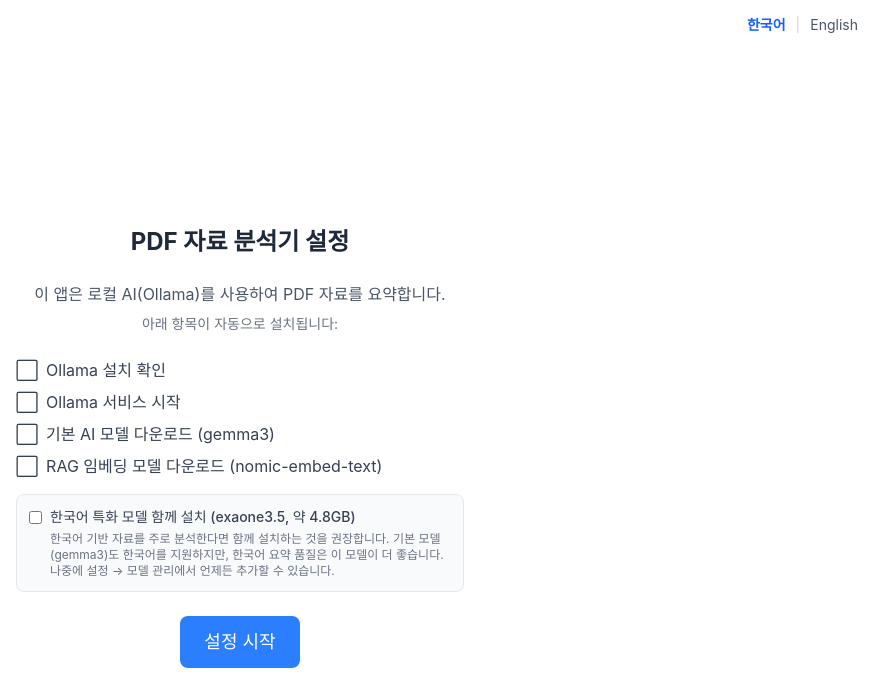
Test: OllamaSetupWizard 선택 설치 › R43: pull 실패 → 에러 화면 → 재시도로 복구
The width and height of the screenshot is (874, 685).
Click the button "설정 시작" at (240, 642), box [180,616,300,668]
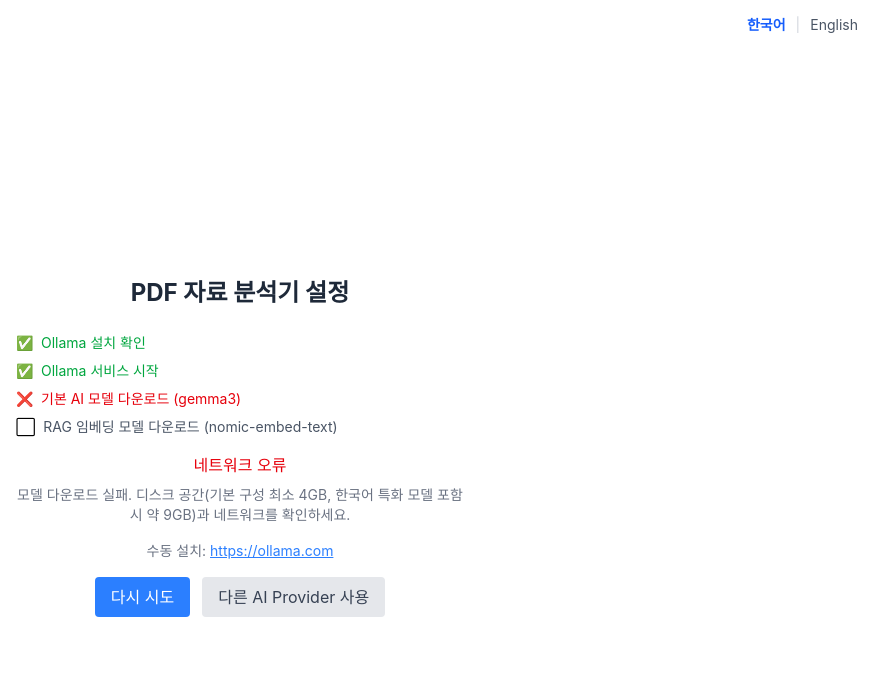
Result: the text "네트워크 오류" is shown at [194,455,286,475]
Result: the button "다시 시도" is shown
Result: the button "다른 AI Provider 사용" is shown at [202,577,385,617]
Click the button "다시 시도" at (142, 597), box [95,577,190,617]
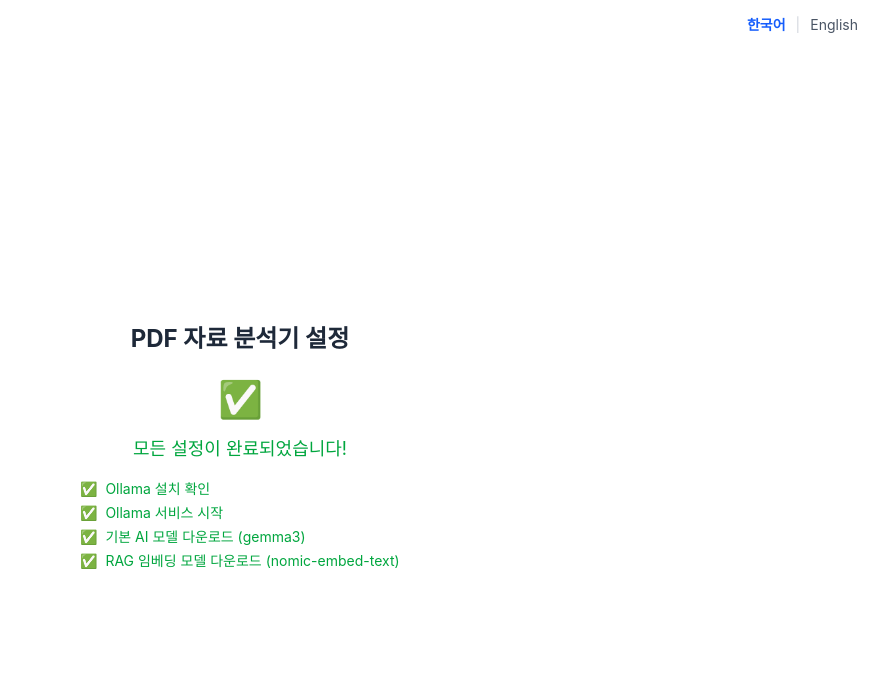
Result: the text "모든 설정이 완료되었습니다!" is shown at [133,438,347,459]
